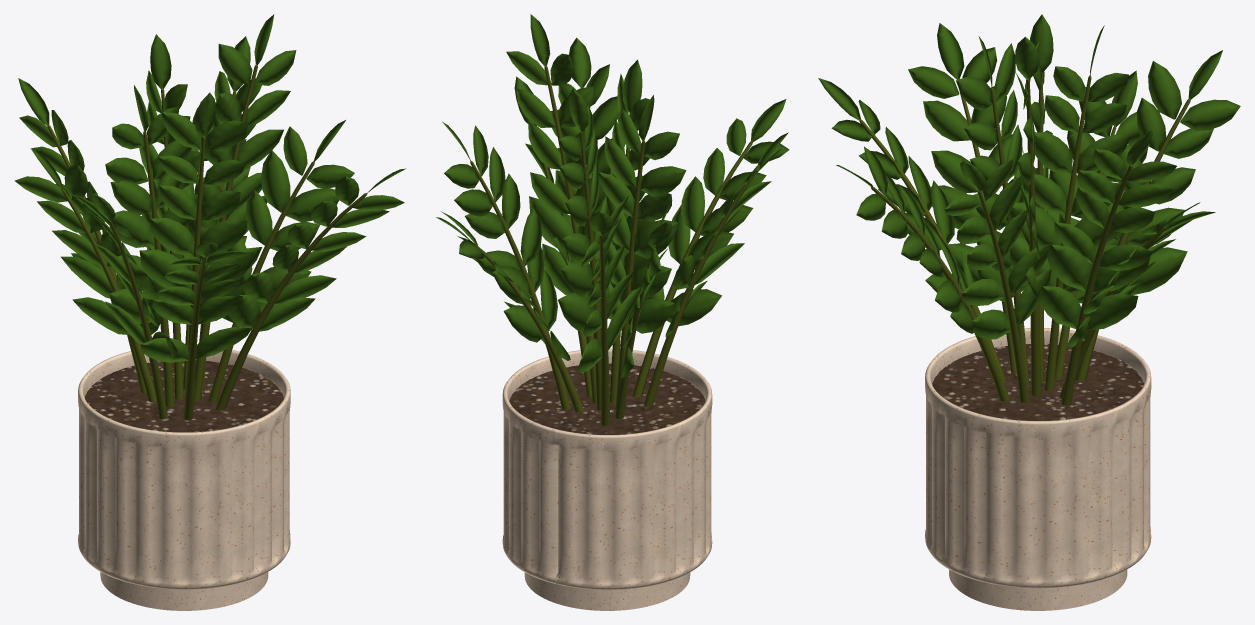
The model's file is zz_plant.glb.
3 renders of one model, left to right at view 1: azimuth 30°, elevation 25°; view 2: azimuth 150°, elevation 25°; view 3: azimuth 270°, elevation 25°, orthographic. The views are drawn at different scales.
Visible parts, largest first — view 1: ZZPlant_0; view 2: ZZPlant_0; view 3: ZZPlant_0.
Boxes of the visible parts, x1,y1,x2,y2 form: ZZPlant_0: [14, 14, 405, 610]; ZZPlant_0: [436, 14, 789, 610]; ZZPlant_0: [818, 14, 1240, 610].
Size of the model in its own units: 0.3126 by 0.5968 by 0.3942.
4 materials, 2 textured.
